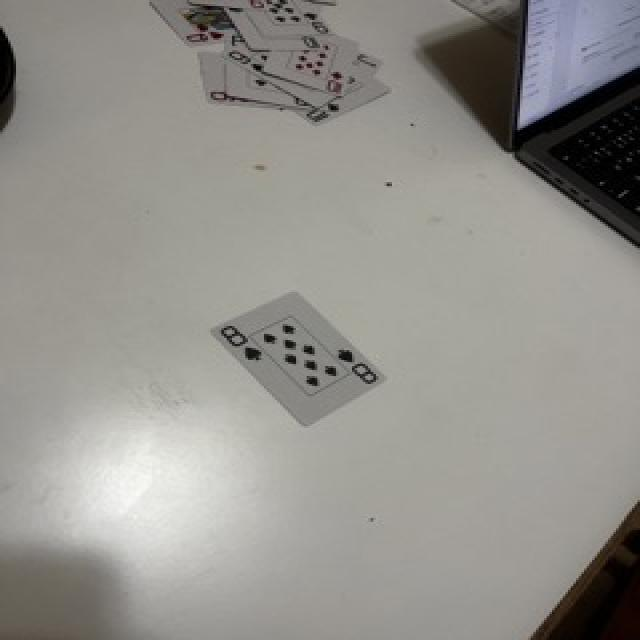8 of spades: (212, 292, 383, 425)
